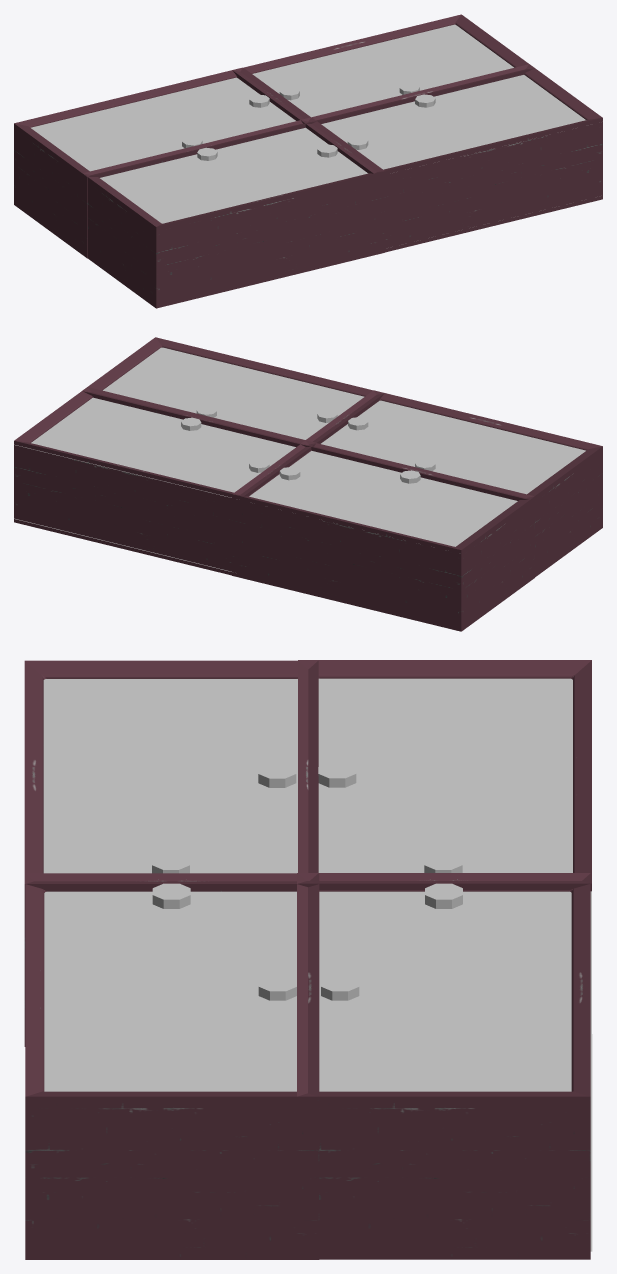
File: ScenarioLevel1.fbx
3 views of the same model, one above another, from view 1: azimuth 30°, elevation 25°; view 2: azimuth 150°, elevation 25°; view 3: azimuth 270°, elevation 25° (orthographic). The views are drawn at different scales.
Parts seen in each view (by area): view 1: pared12.002, pared9.003, piso0.002, piso0, piso0.003, piso0.001, pared9.002, pared12.003; view 2: pared9.002, pared12.003, piso0.003, piso0.001, piso0.002, piso0, pared12.002, pared9.003; view 3: pared9.003, pared12.003, piso0.001, piso0, piso0.003, piso0.002, pared12.002, pared9.002, Cylinder, Cylinder.002, Cylinder.001, Cylinder.003 (+2 smaller).
Boxes of the visible parts, x1=… form: pared12.002: x1=83, y1=117, x2=385, y2=308; pared9.003: x1=301, y1=64, x2=602, y2=252; piso0.002: x1=100, y1=127, x2=367, y2=223; piso0: x1=321, y1=75, x2=585, y2=169; piso0.003: x1=31, y1=77, x2=295, y2=171; piso0.001: x1=252, y1=24, x2=513, y2=117; pared9.002: x1=14, y1=67, x2=315, y2=258; pared12.003: x1=232, y1=14, x2=534, y2=127; pared9.002: x1=232, y1=440, x2=534, y2=631; pared12.003: x1=14, y1=387, x2=316, y2=575; piso0.003: x1=249, y1=451, x2=517, y2=546; piso0.001: x1=14, y1=397, x2=295, y2=497; piso0.002: x1=321, y1=400, x2=585, y2=494; piso0: x1=103, y1=347, x2=364, y2=439; pared12.002: x1=301, y1=390, x2=602, y2=577; pared9.003: x1=82, y1=337, x2=384, y2=446; pared9.003: x1=25, y1=873, x2=319, y2=1259; pared12.003: x1=297, y1=873, x2=590, y2=1259; piso0.001: x1=319, y1=891, x2=591, y2=1103; piso0: x1=44, y1=891, x2=296, y2=1091; piso0.003: x1=318, y1=678, x2=572, y2=872; piso0.002: x1=43, y1=679, x2=297, y2=873; pared12.002: x1=24, y1=660, x2=318, y2=1046; pared9.002: x1=298, y1=660, x2=591, y2=891; Cylinder: x1=258, y1=975, x2=296, y2=1000; Cylinder.002: x1=258, y1=762, x2=296, y2=787; Cylinder.001: x1=321, y1=975, x2=359, y2=1000; Cylinder.003: x1=318, y1=762, x2=356, y2=787.
Bounding box in the file's own units: 1859 × 335 × 1022.
